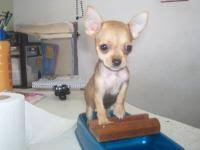chihuahua: (74, 2, 152, 137)
